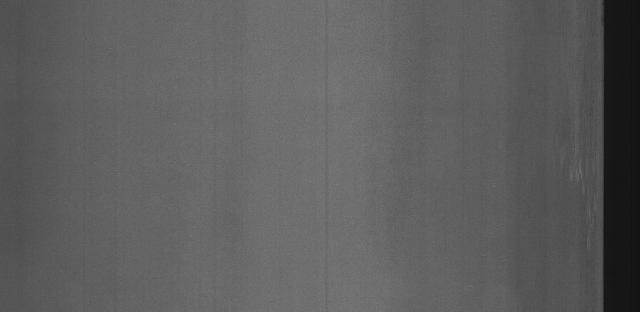silk_spot: (552, 113, 598, 249)
